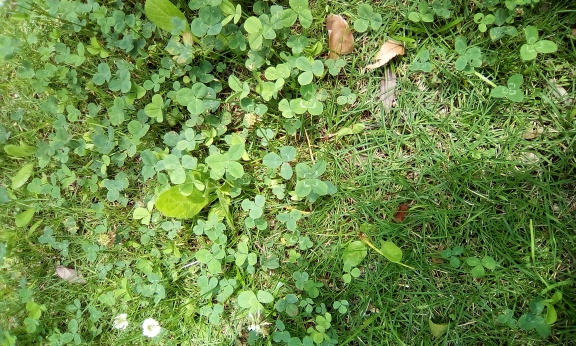4leaf: (294, 161, 327, 198)
